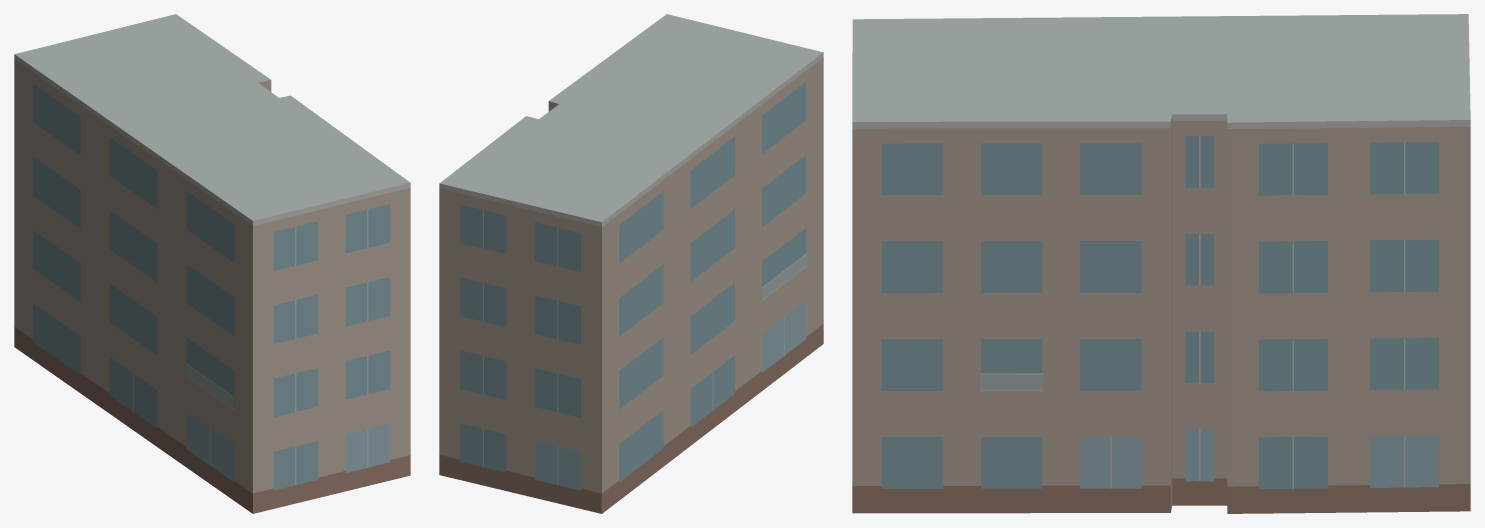
File: survey-upis-33032328.glb
3 renders of one model, left to right at view 1: azimuth 30°, elevation 25°; view 2: azimuth 150°, elevation 25°; view 3: azimuth 270°, elevation 25°, orthographic. The views are drawn at different scales.
Parts seen in each view (by area): view 1: survey-upis-33032328.tmp; view 2: survey-upis-33032328.tmp; view 3: survey-upis-33032328.tmp.
Boxes of the visible parts, x1,y1,x2,y2 form: survey-upis-33032328.tmp: [14, 14, 410, 513]; survey-upis-33032328.tmp: [439, 14, 823, 513]; survey-upis-33032328.tmp: [852, 14, 1470, 513].
Bounding box in the file's own units: 8.57 × 14.39 × 20.62.
